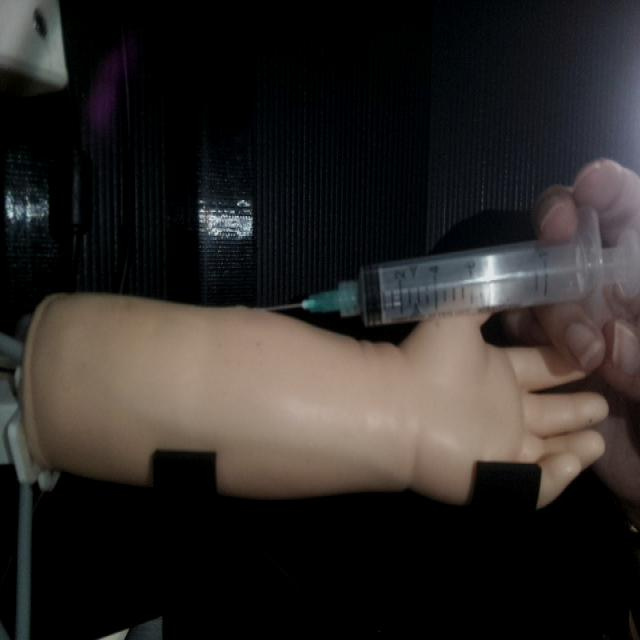Below 15 degrees: (262, 206, 638, 330)
